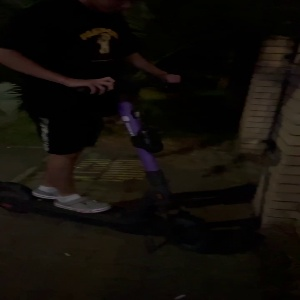human on a scooter: (1, 1, 213, 255)
